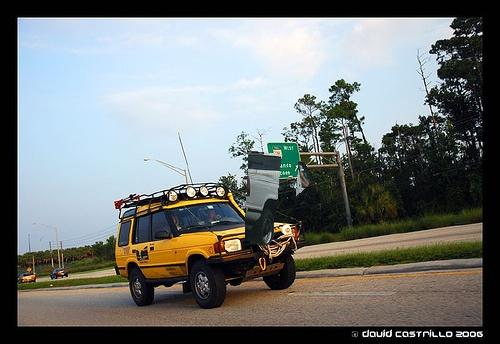tampered: (246, 152, 314, 245)
